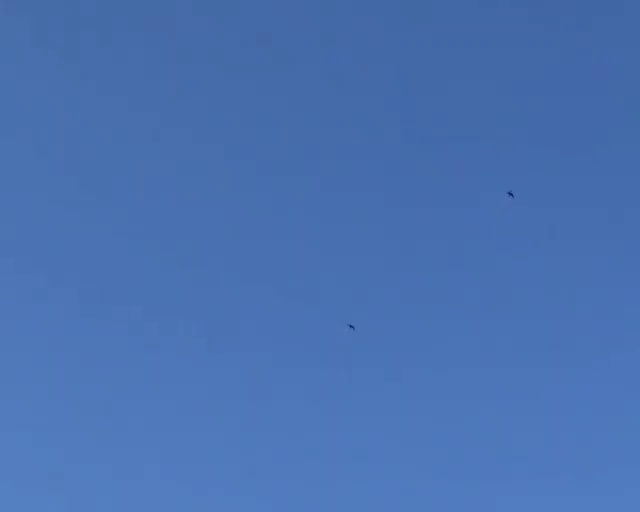BIRD: (506, 190, 515, 198)
